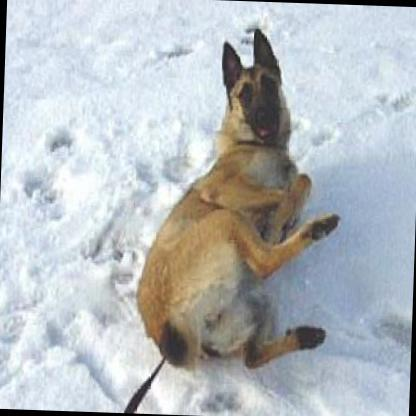malinois: (128, 18, 348, 374)
